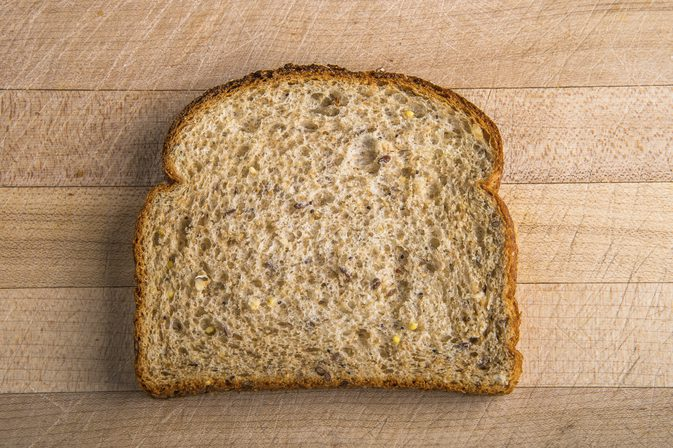slice of bread: (128, 59, 528, 411)
